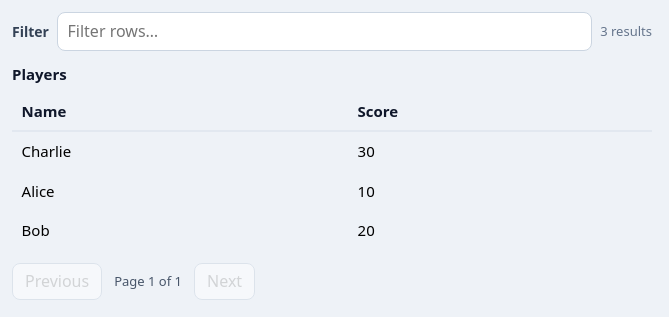
Test: DataTable › shows the empty state when nothing matches
Type "zzz" into the search field labelled "Filter" at (325, 31), box x1=57 y1=12 x2=592 y2=51
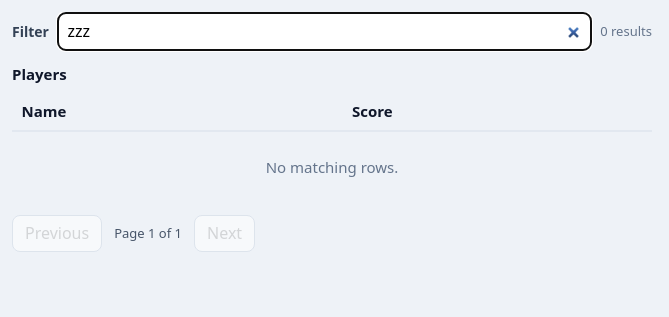
Check: the text "No matching rows." is shown, box x1=12 y1=131 x2=652 y2=203
